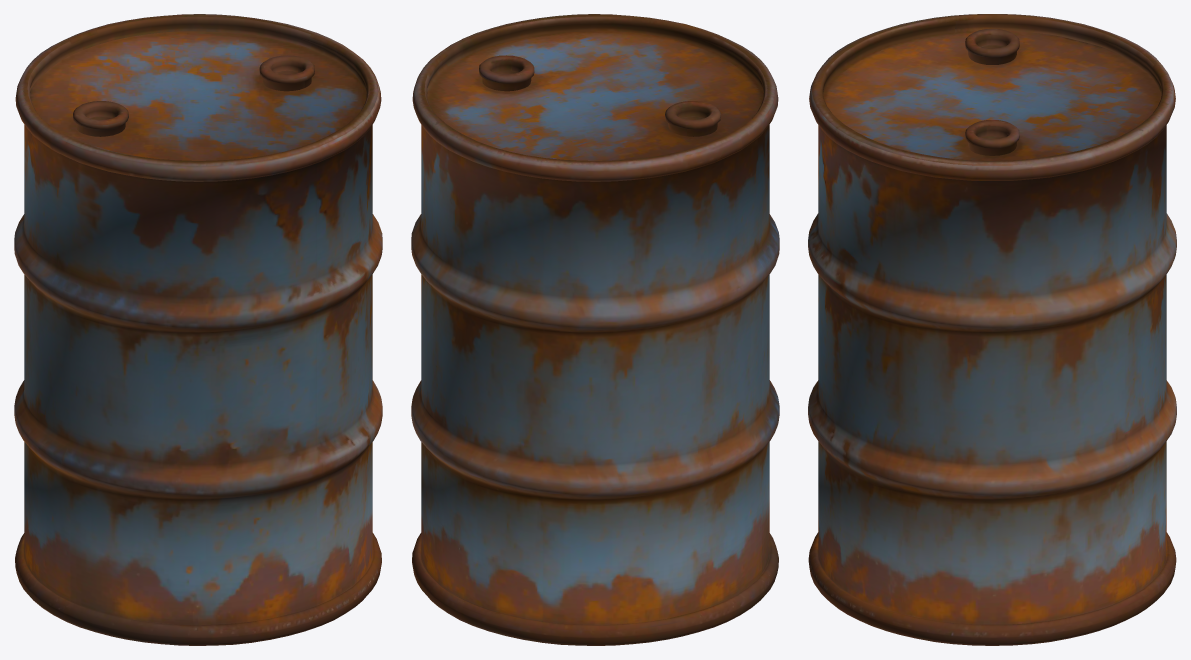
File: rusty_oil_barrel_a1ef5c6b_v2.glb
The picture shows the model from 3 angles, left to right: view 1: azimuth 30°, elevation 25°; view 2: azimuth 150°, elevation 25°; view 3: azimuth 270°, elevation 25°; orthographic projection.
Visible parts, largest first — view 1: material; view 2: material; view 3: material.
Part boxes in pixels (x1,y1,x2,y2): material: (14,14,382,645); material: (411,14,779,645); material: (808,14,1176,645).
Bounding box in the file's own units: 1.31 × 1.9 × 1.31.
1 material, 1 textured.
